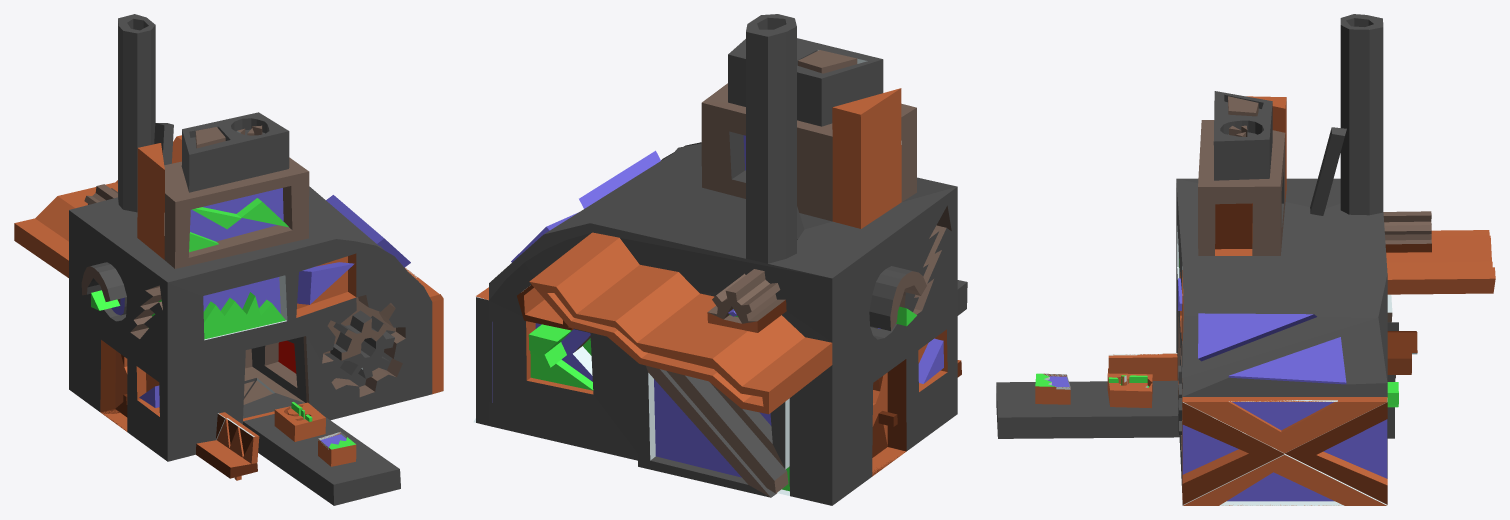
File: building_factory_0.fbx
3 views of the same model, side by side, from view 1: azimuth 30°, elevation 25°; view 2: azimuth 150°, elevation 25°; view 3: azimuth 270°, elevation 25° (orthographic). The views are drawn at different scales.
Visible parts, largest first — view 1: Cube; view 2: Cube; view 3: Cube.
Part boxes in pixels (<box>): Cube: <box>14,14,444,505</box>; Cube: <box>473,14,967,505</box>; Cube: <box>996,14,1495,505</box>.
Bounding box in the file's own units: 348 × 404 × 487.
